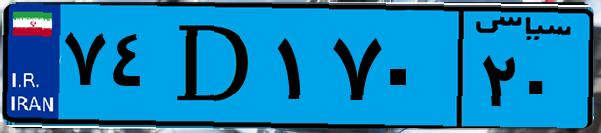0: (385, 28, 445, 110), (525, 38, 570, 115)
1: (270, 28, 330, 110)
2: (475, 38, 525, 113)
4: (110, 28, 158, 98)
7: (330, 28, 385, 110), (57, 26, 110, 100)
D: (158, 12, 270, 120)
